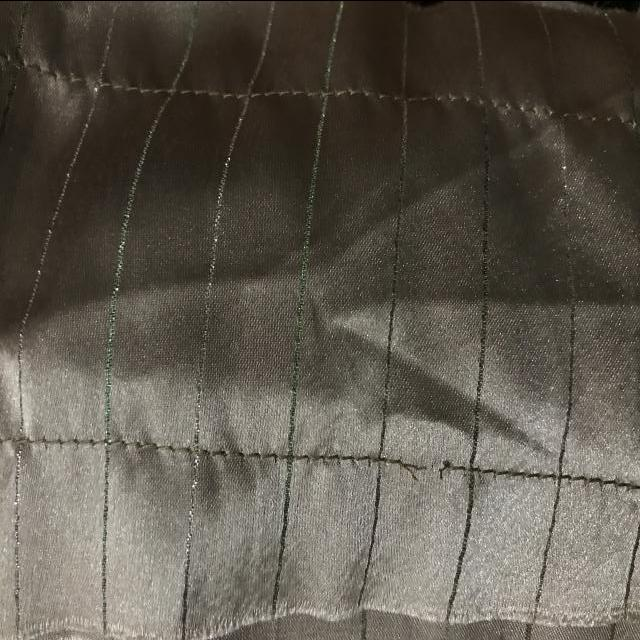Broken: (380, 442, 468, 497)
